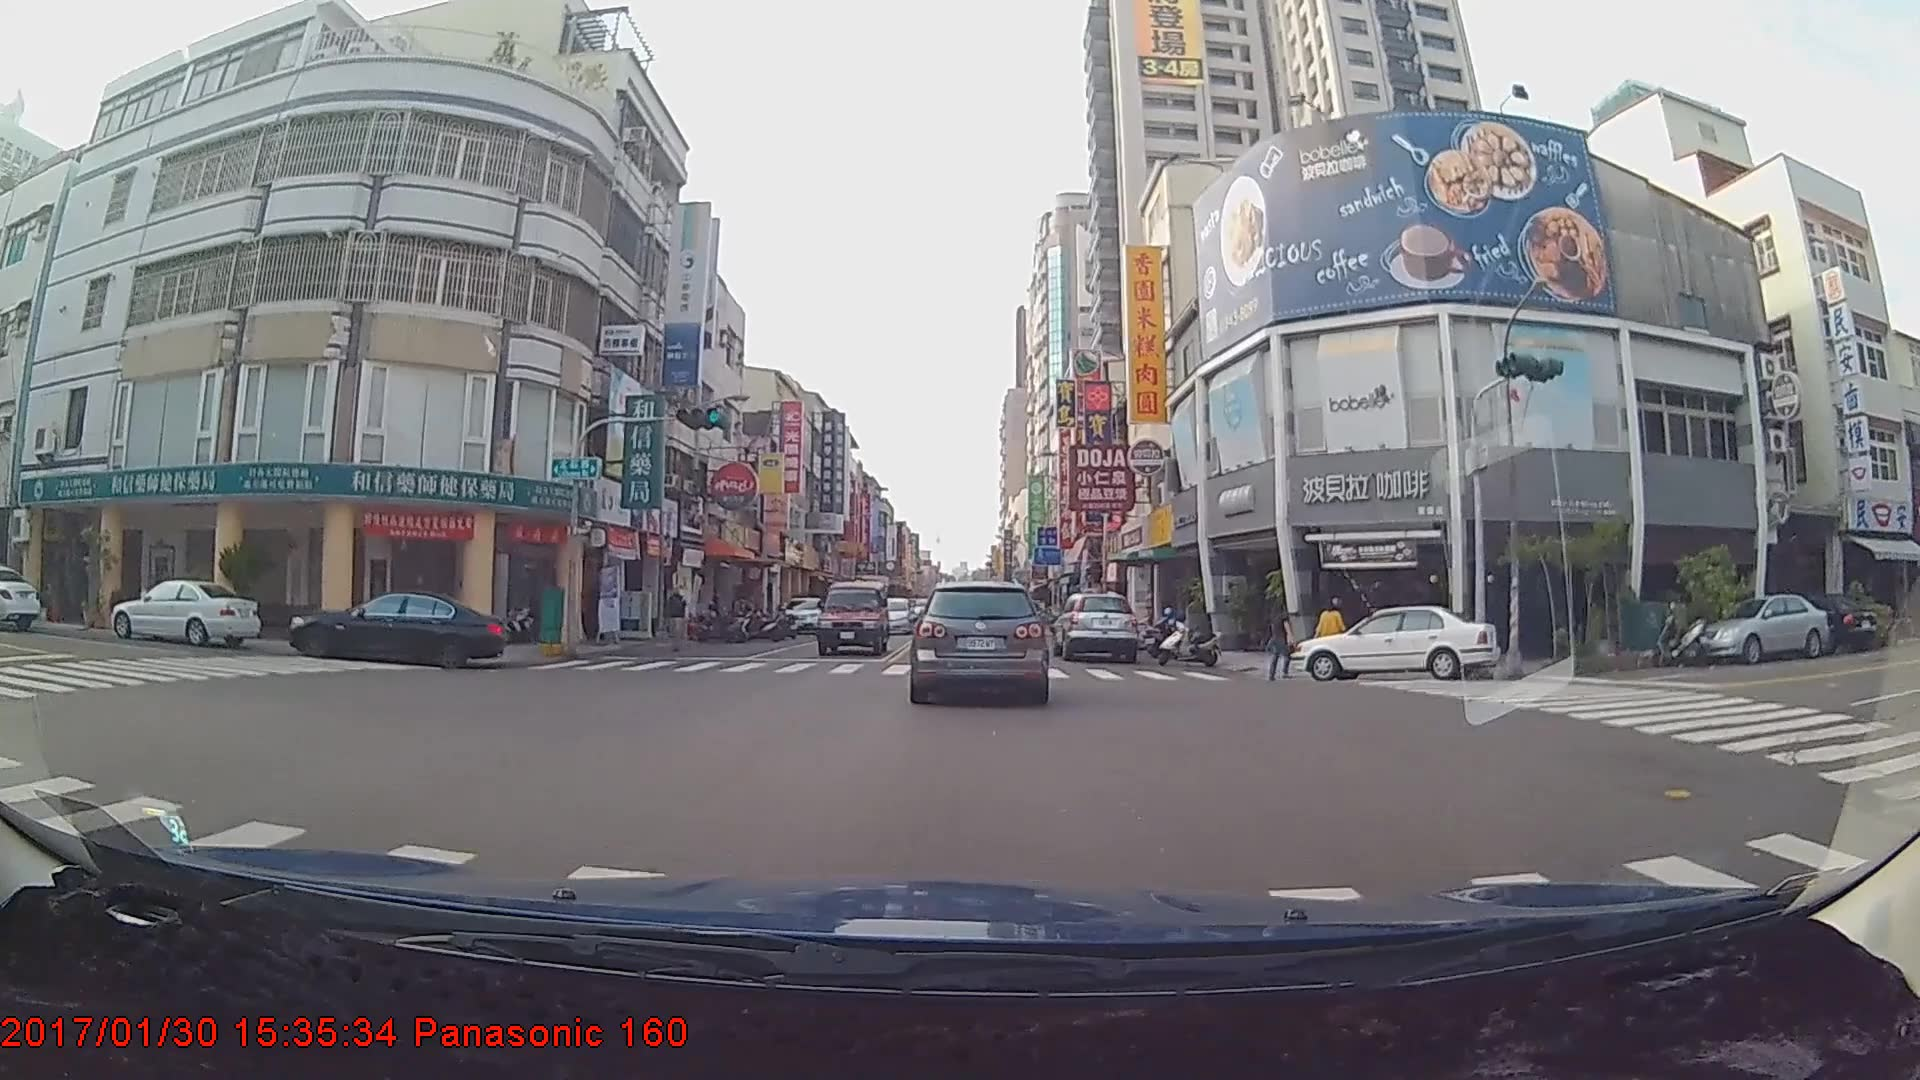pedestrian: (1315, 597, 1348, 675), (1267, 596, 1297, 680), (664, 585, 690, 653)
vehicle: (285, 588, 505, 668), (909, 580, 1048, 702), (1293, 603, 1499, 681), (111, 578, 260, 652), (1692, 591, 1828, 662), (1052, 591, 1137, 663), (814, 578, 888, 655), (0, 559, 65, 631), (868, 594, 912, 634), (779, 594, 826, 633)
